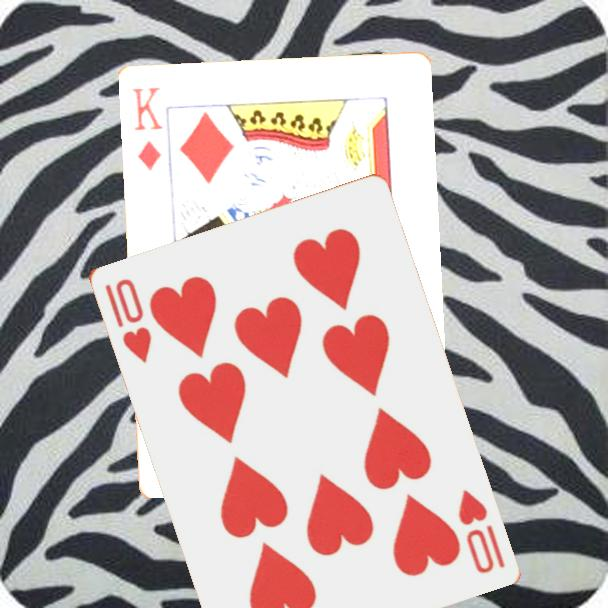d13: (129, 83, 166, 173)
h10: (101, 274, 154, 366), (454, 486, 508, 576)
